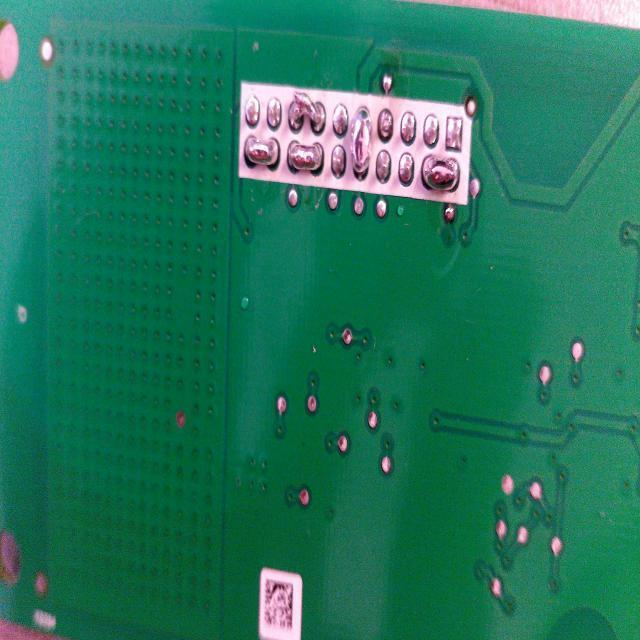Soldering shorted: (420, 151, 464, 202), (351, 94, 372, 188), (287, 88, 328, 136), (243, 132, 280, 173), (288, 139, 323, 178)
